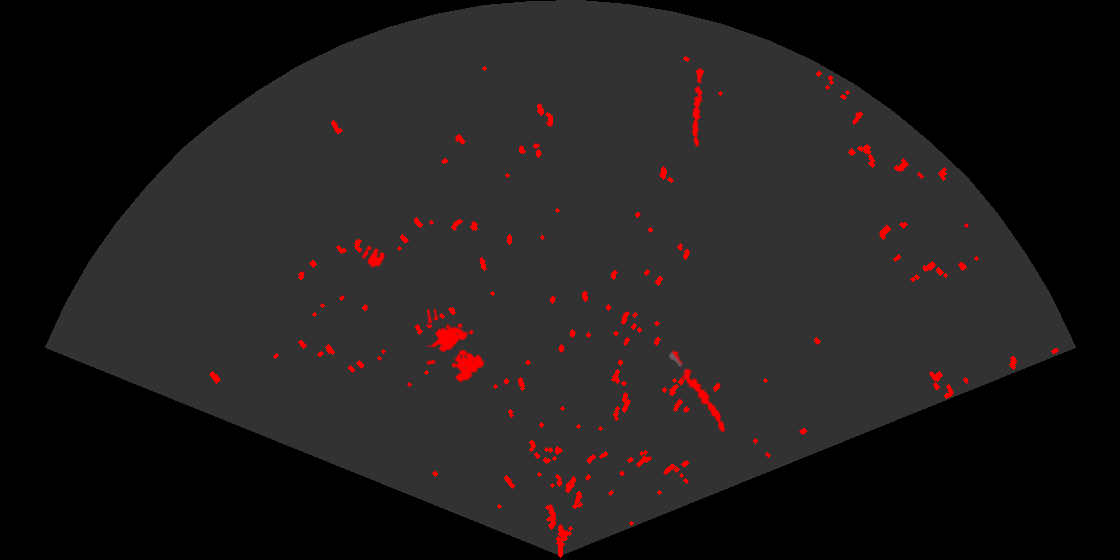ball: (360, 244, 387, 269)
cage: (427, 309, 486, 384)
chain: (668, 347, 727, 434), (690, 66, 706, 148)
